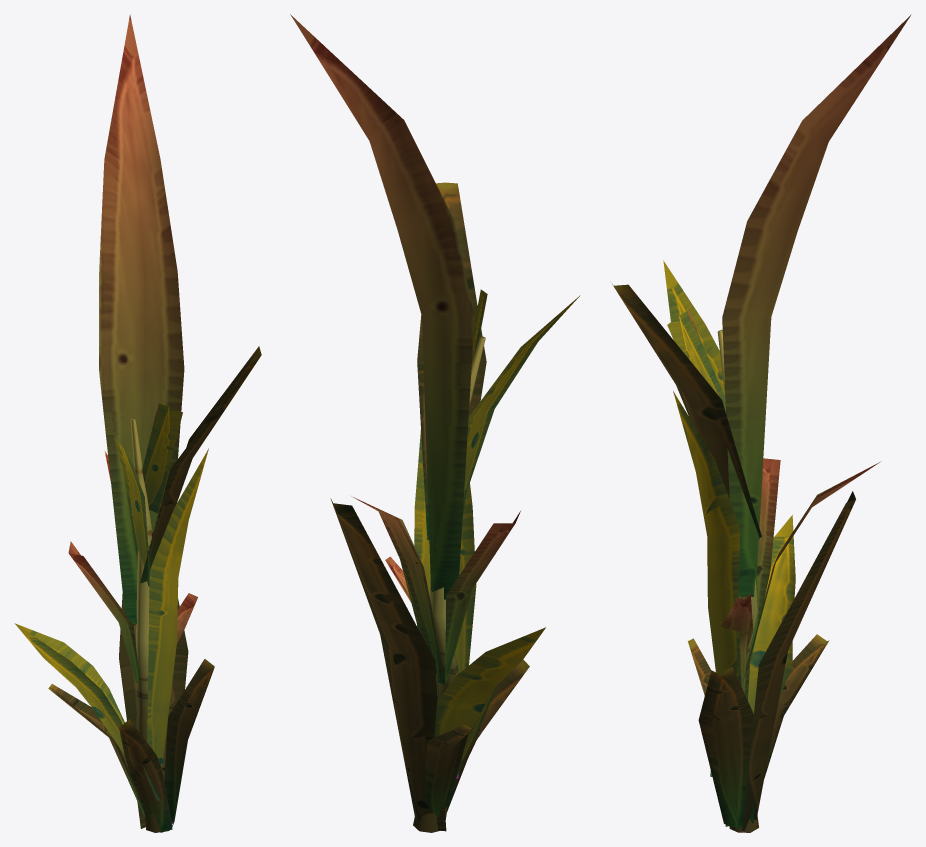
File: env_nature_foliage_reed02.fbx
3 renders of one model, left to right at view 1: azimuth 30°, elevation 25°; view 2: azimuth 150°, elevation 25°; view 3: azimuth 270°, elevation 25°, orthographic. The views are drawn at different scales.
Parts seen in each view (by area): view 1: env_nature_foliage_reed02; view 2: env_nature_foliage_reed02; view 3: env_nature_foliage_reed02.
Boxes of the visible parts, <box> form: env_nature_foliage_reed02: <box>14,14,261,832</box>; env_nature_foliage_reed02: <box>290,14,580,832</box>; env_nature_foliage_reed02: <box>612,14,911,832</box>.
Size of the model in its own units: 4.59 by 19.12 by 6.24.
